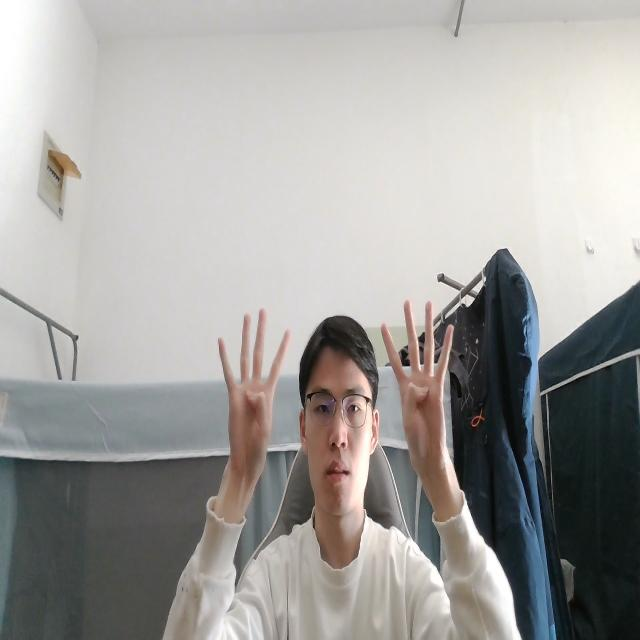four: (215, 302, 290, 492), (382, 294, 455, 480)
